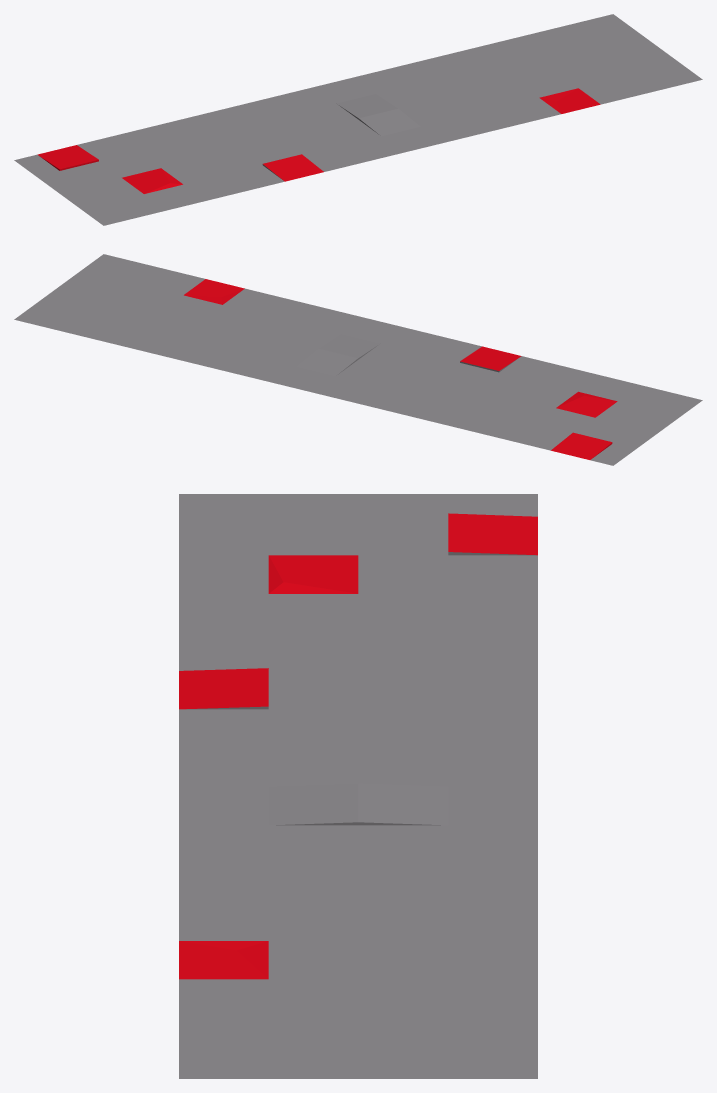
File: Floor.fbx
3 renders of one model, top to bottom at view 1: azimuth 30°, elevation 25°; view 2: azimuth 150°, elevation 25°; view 3: azimuth 270°, elevation 25°, orthographic. The views are drawn at different scales.
Parts seen in each view (by area): view 1: Plane; view 2: Plane; view 3: Plane.
Part boxes in pixels (<box>): Plane: <box>14,14,702,225</box>; Plane: <box>14,254,702,465</box>; Plane: <box>179,494,537,1078</box>.
Bounding box in the file's own units: 1516 × 4.73 × 393.
